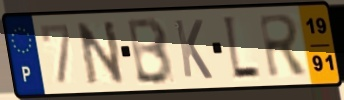7: (37, 21, 74, 87)
B: (126, 15, 176, 86)
K: (172, 17, 215, 82)
L: (220, 13, 263, 84)
N: (74, 18, 127, 87)
R: (256, 12, 311, 81)
